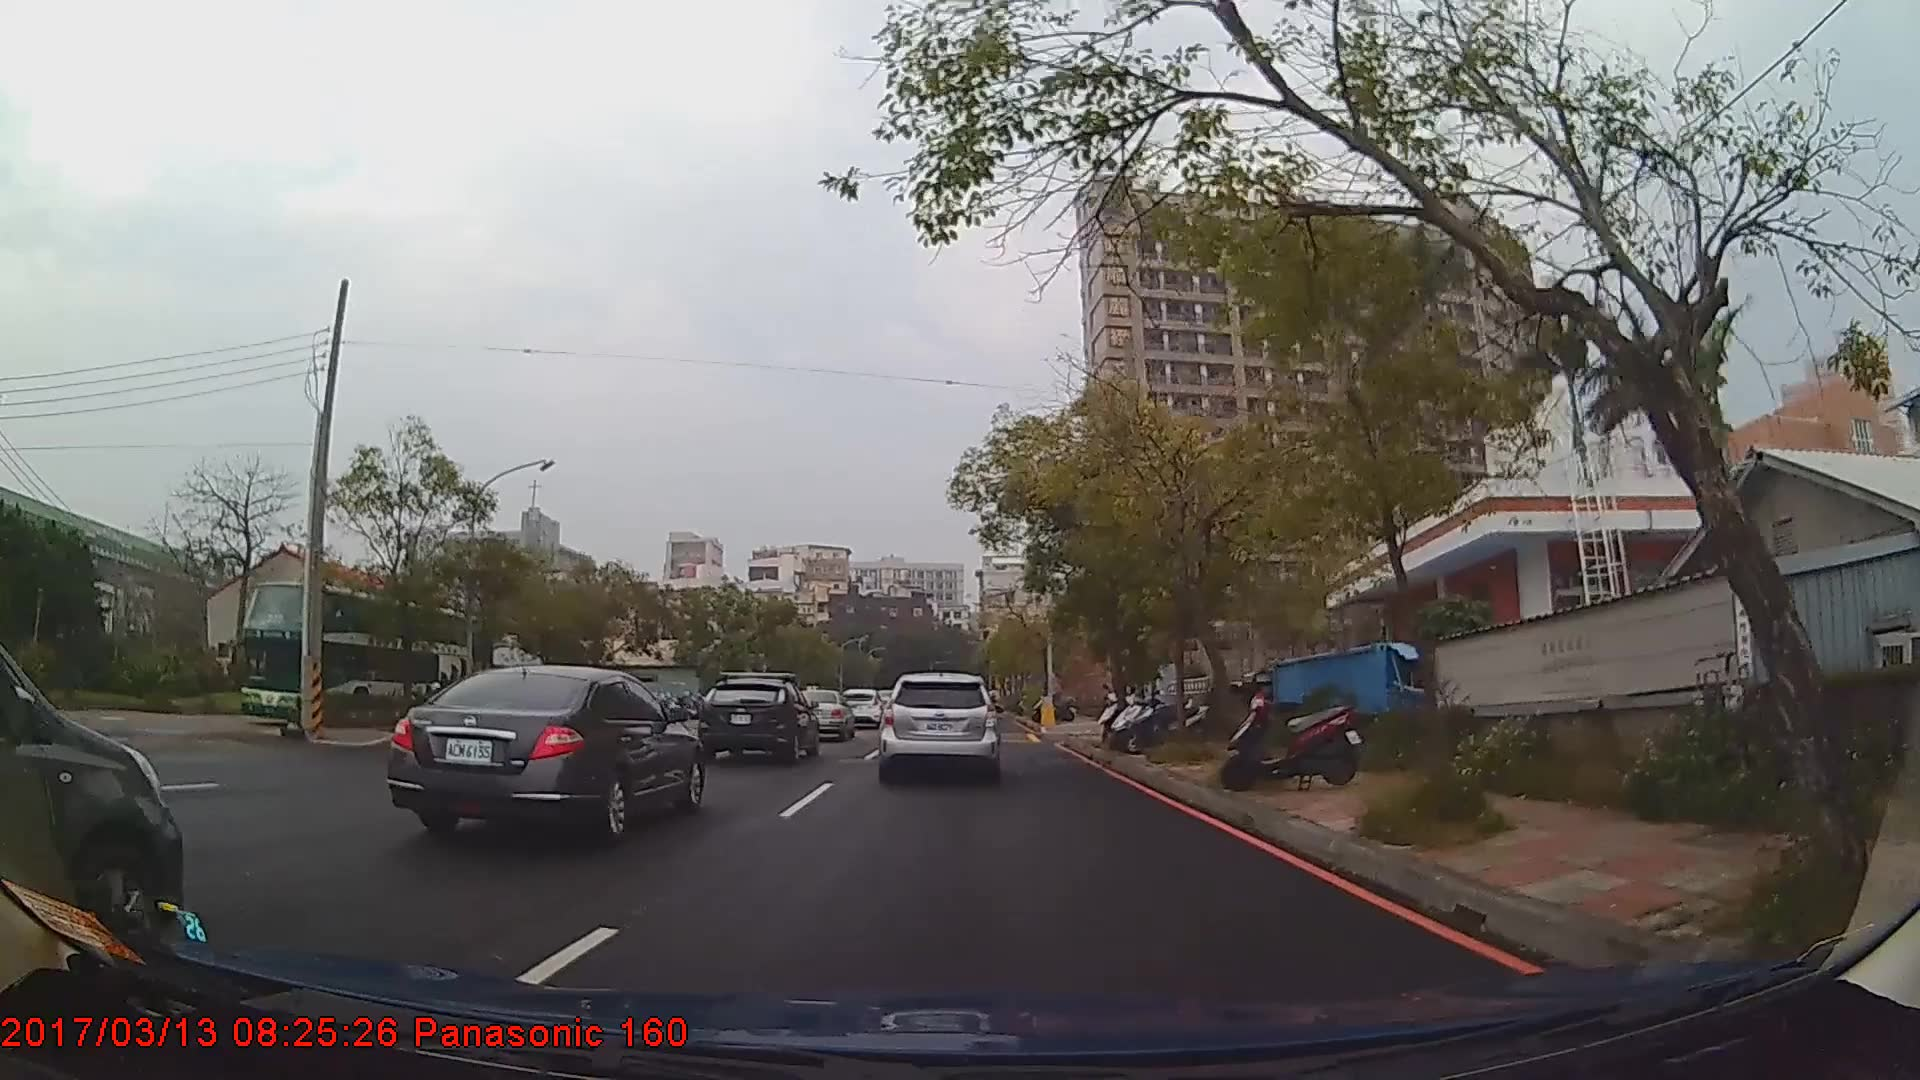vehicle: (388, 662, 704, 840), (236, 579, 469, 737), (878, 669, 1000, 779), (698, 669, 818, 764), (794, 684, 855, 738), (837, 686, 884, 727)
